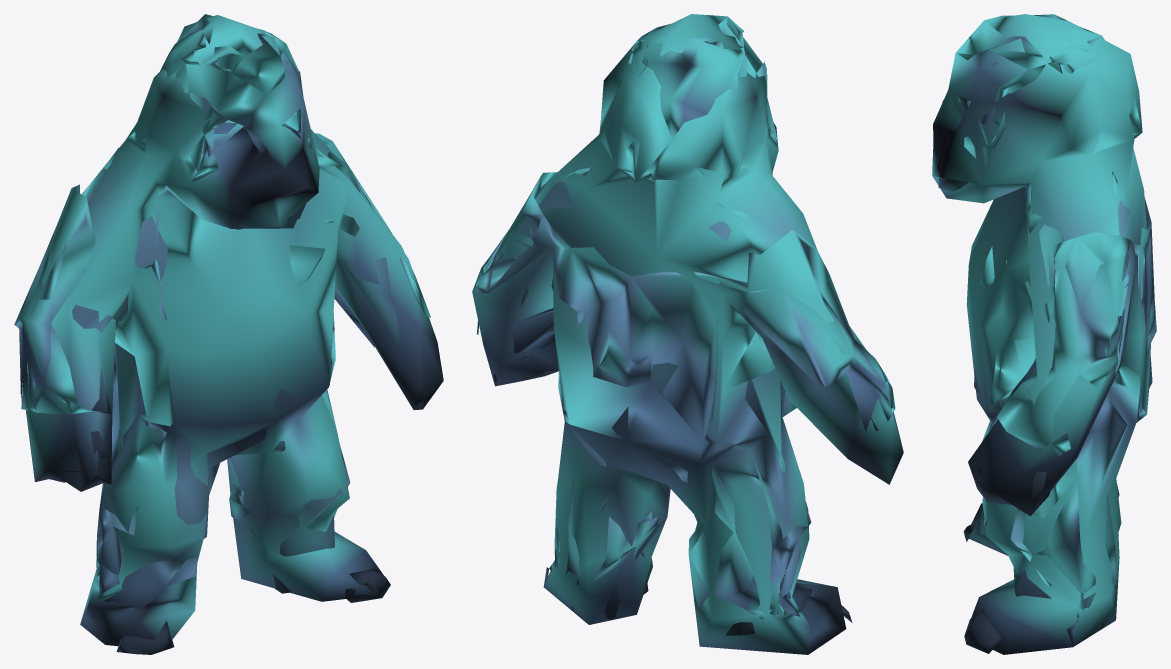
File: gen3d-snow-yeti-lod1.glb
3 views of the same model, side by side, from view 1: azimuth 30°, elevation 25°; view 2: azimuth 150°, elevation 25°; view 3: azimuth 270°, elevation 25° (orthographic).
Visible parts, largest first — view 1: part_0; view 2: part_0; view 3: part_0.
Boxes of the visible parts, bbox=[...] form: part_0: bbox=[14, 14, 443, 654]; part_0: bbox=[472, 14, 903, 654]; part_0: bbox=[932, 14, 1156, 654].
Size of the model in its own units: 0.7223 by 1 by 0.351.
